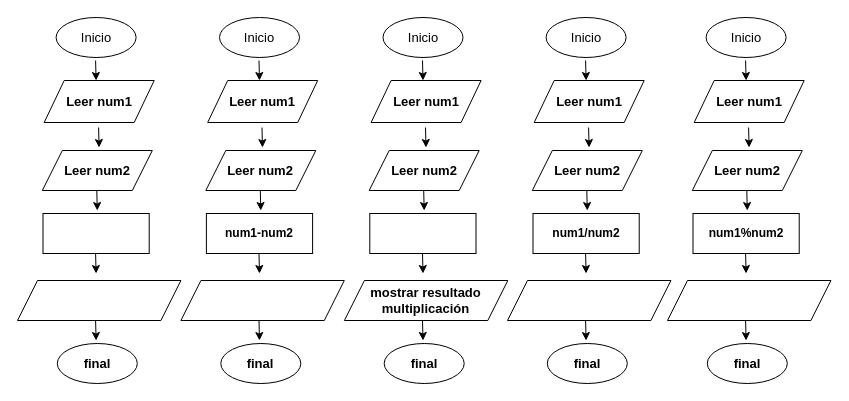
The diagram is 849 pixels wide and 401 high, and some of its shapes have lost their labels. Here are the shapes that lost their labels. From the top down, the centre of each, then its label:
At pixel 95 233: "num1+num2".
At pixel 422 233: "num1*num2".
At pixel 98 300: "mostrar resultado suma".
At pixel 262 300: "mostrar resultado resta".
At pixel 588 300: "mostrar resultado división".
At pixel 748 300: "mostrar resultado resto".
